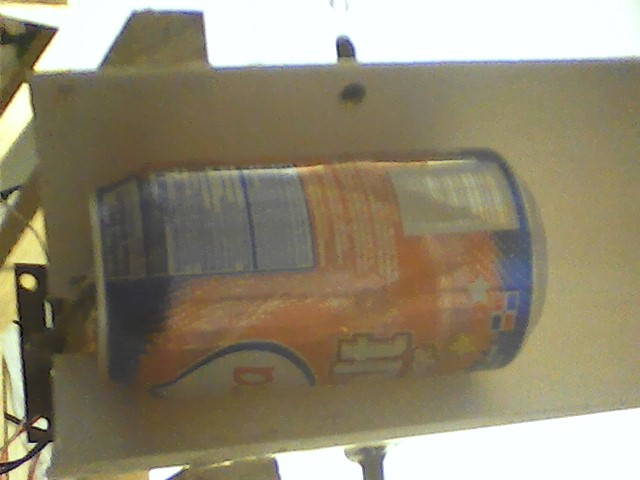lata: (83, 143, 553, 398)
